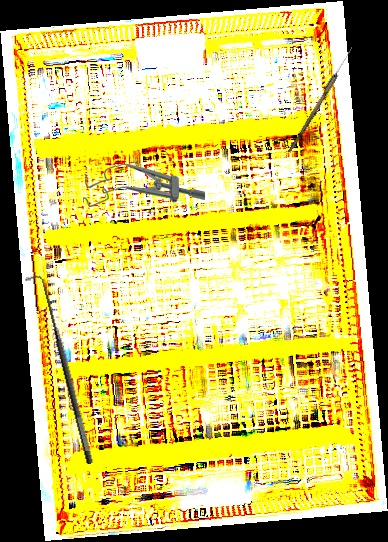Hook Surgical: (24, 270, 97, 469)
Speculum: (82, 162, 206, 210)
Surgical Spoon: (287, 45, 355, 155)
